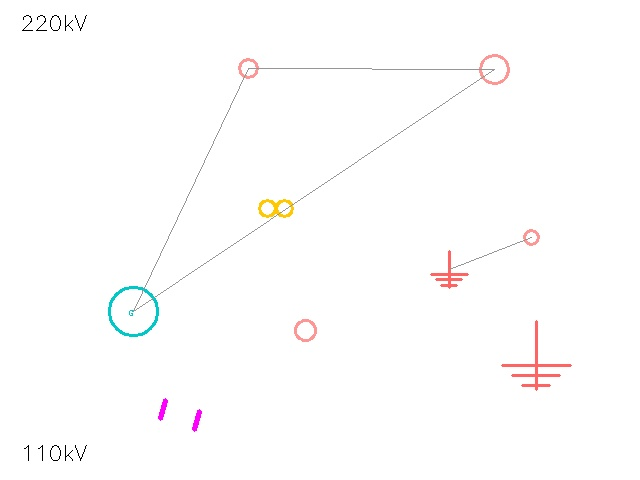capacitor: (150, 385, 210, 445)
current_transformer: (284, 309, 326, 351)
generator: (109, 287, 157, 335)
ground: (502, 321, 570, 389), (431, 251, 467, 287)
load_break_switch: (465, 40, 523, 98)
reactor: (516, 222, 546, 252)
surge_arrester: (229, 49, 267, 87)
transformer_2w: (255, 187, 297, 229)
